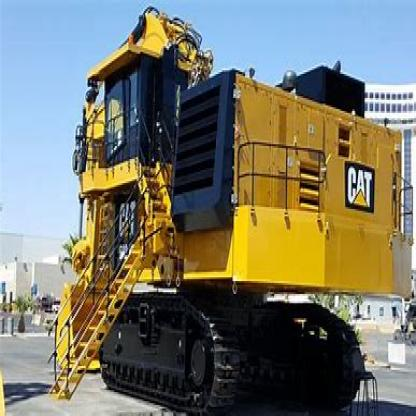excavator: (46, 13, 394, 401)
